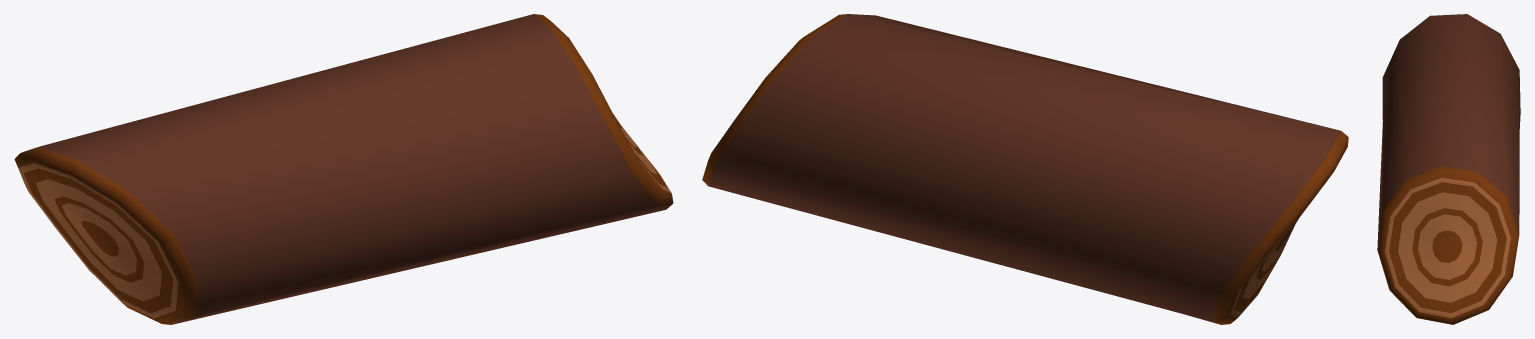
File: pine_wood.fbx
3 renders of one model, left to right at view 1: azimuth 30°, elevation 25°; view 2: azimuth 150°, elevation 25°; view 3: azimuth 270°, elevation 25°, orthographic. The views are drawn at different scales.
Visible parts, largest first — view 1: pine_wood; view 2: pine_wood; view 3: pine_wood.
Boxes of the visible parts, x1,y1,x2,y2 form: pine_wood: [14, 14, 673, 324]; pine_wood: [702, 14, 1348, 324]; pine_wood: [1377, 14, 1520, 324].
Bounding box in the file's own units: 2.72 × 0.8242 × 0.8341.
